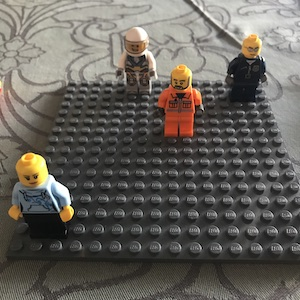Lego: (7, 152, 74, 239), (155, 64, 203, 136), (114, 25, 158, 98), (224, 34, 267, 102)
